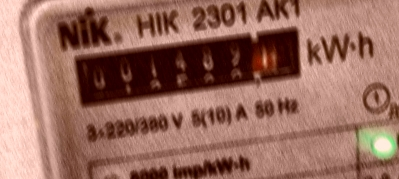0: (112, 54, 131, 81), (85, 63, 104, 89)
1: (140, 49, 158, 80), (252, 39, 268, 70)
4: (167, 46, 187, 74)
8: (193, 42, 214, 71)
9: (222, 40, 240, 67)
screen: (54, 11, 318, 125)
